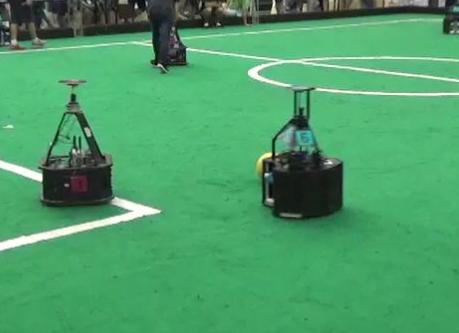robot: (255, 80, 347, 221), (36, 78, 117, 206)
